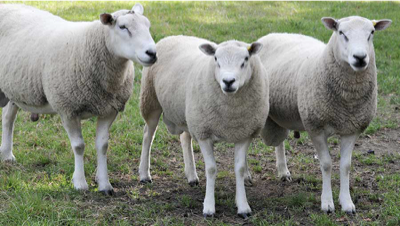koyun: (1, 1, 156, 197), (280, 17, 390, 213), (164, 25, 264, 222)
